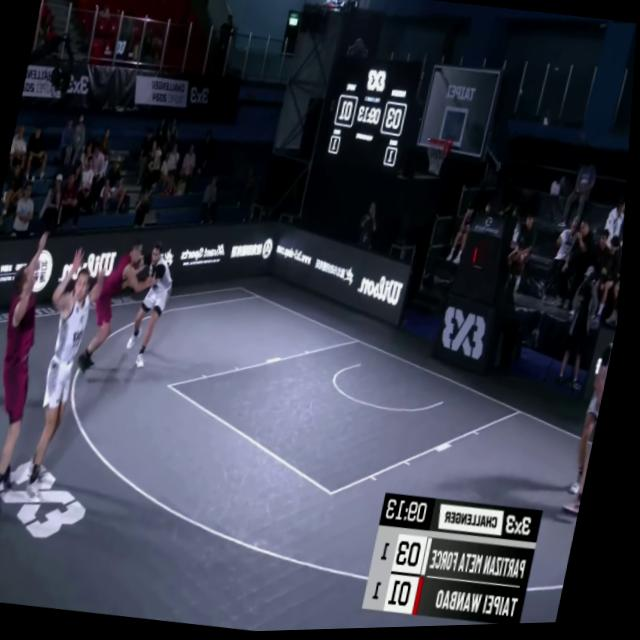hoop: (421, 136, 456, 183)
player: (19, 243, 114, 505), (0, 224, 72, 523), (82, 240, 164, 381), (571, 327, 622, 510), (125, 242, 186, 375), (576, 329, 621, 501)
